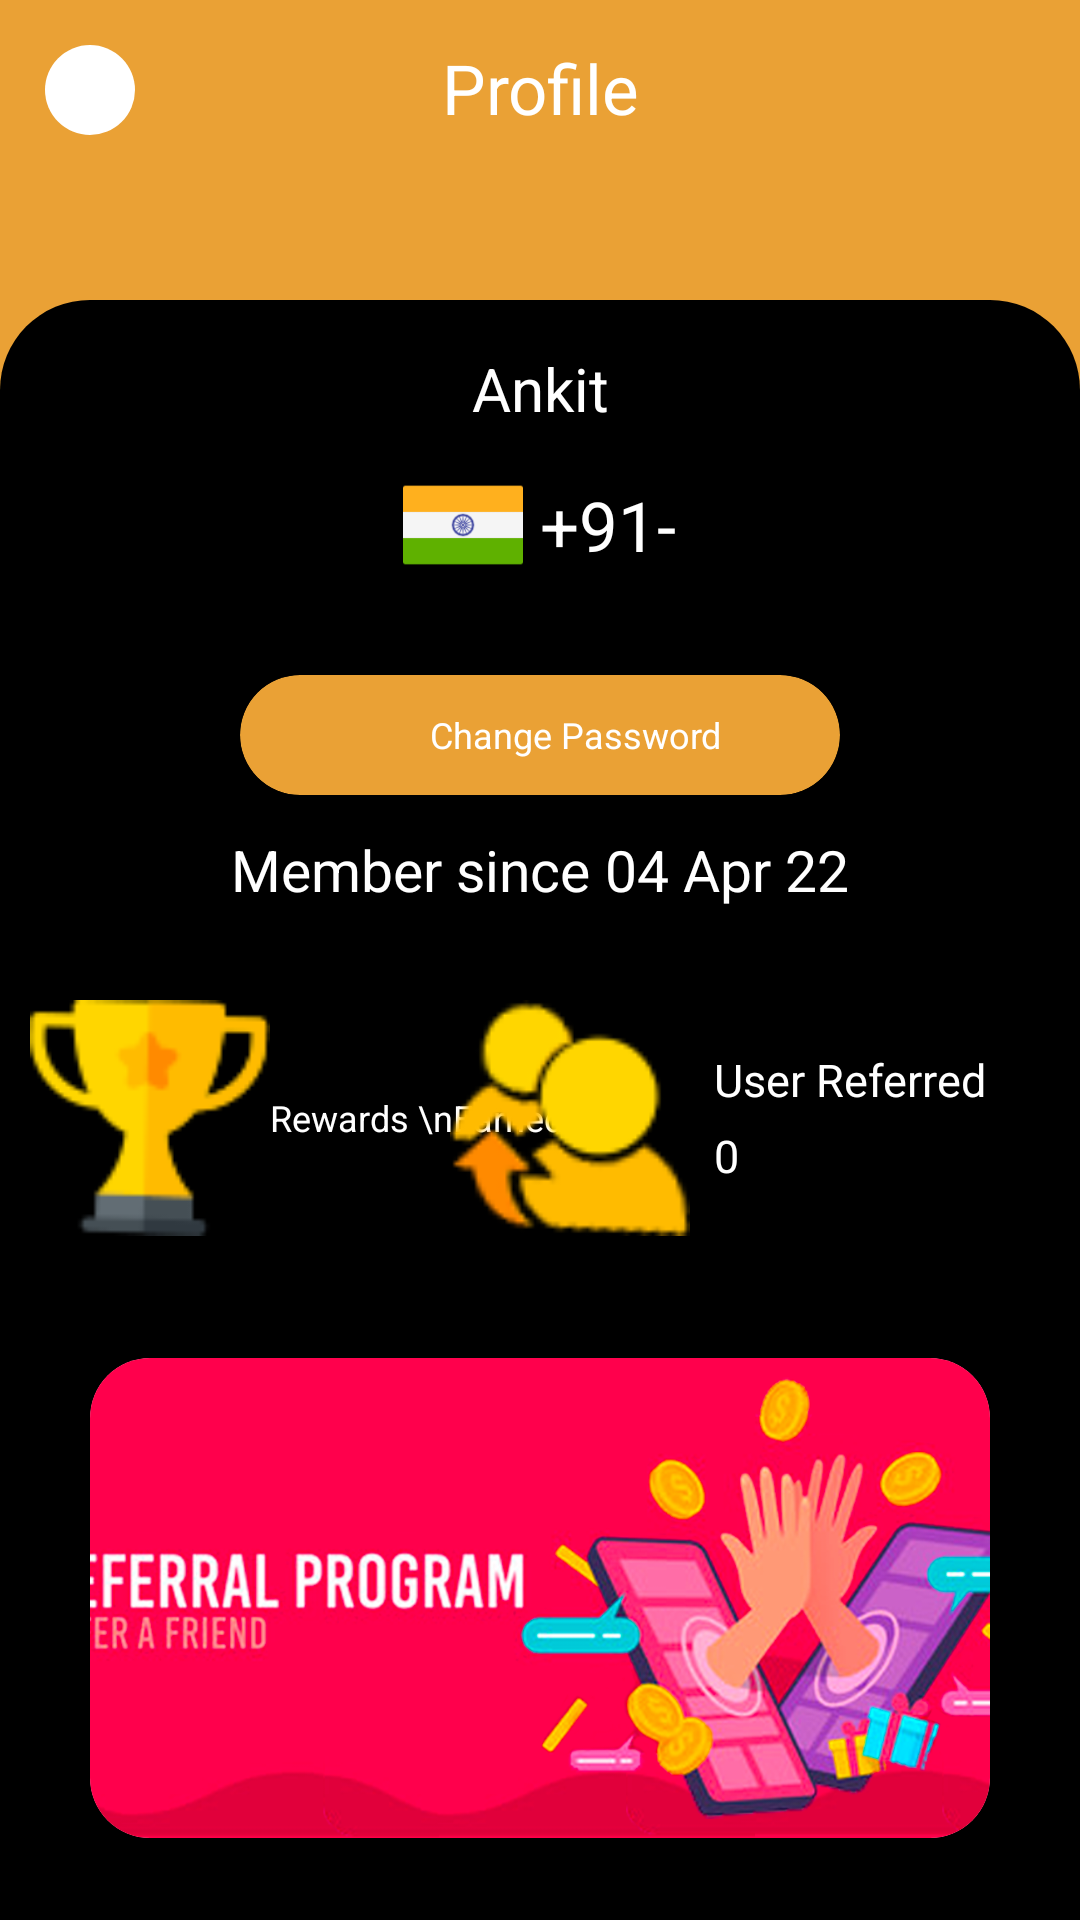

Named icons in this screenshot (1080px×1920px) and their bounding boxes, (x1, y1, x2, y2):
flag: (403, 485, 523, 565)
referd: (450, 1003, 690, 1236)
win: (30, 1000, 270, 1236)
